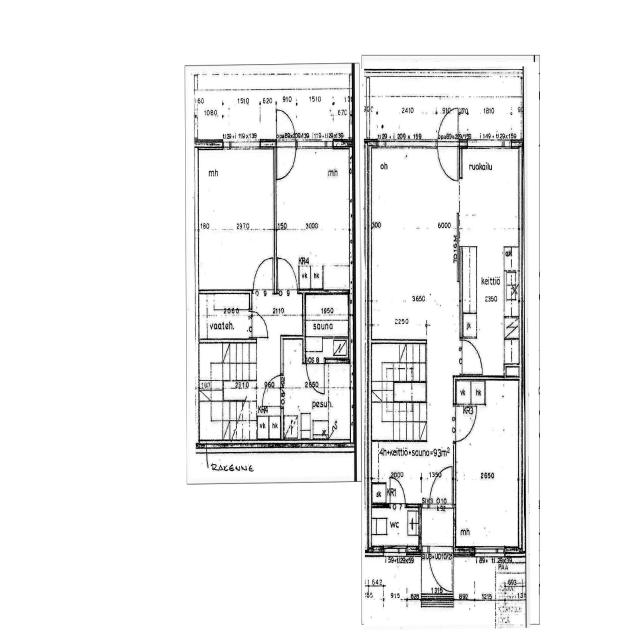door: (274, 105, 298, 183), (425, 464, 455, 508), (428, 550, 454, 594), (436, 140, 460, 184), (459, 337, 485, 377), (453, 403, 478, 444), (251, 254, 275, 296), (275, 254, 299, 295), (305, 359, 326, 396), (263, 373, 283, 410), (250, 311, 270, 340), (389, 476, 407, 507)
window: (474, 541, 506, 559)
zone: (370, 148, 460, 342), (459, 141, 523, 376), (454, 377, 522, 550), (196, 145, 275, 293), (275, 147, 353, 289), (280, 336, 352, 444), (198, 341, 254, 446), (370, 342, 428, 443), (198, 291, 252, 342), (367, 504, 421, 552), (303, 291, 352, 342), (453, 397, 479, 442), (257, 410, 283, 444), (454, 378, 486, 405), (404, 342, 427, 363)
